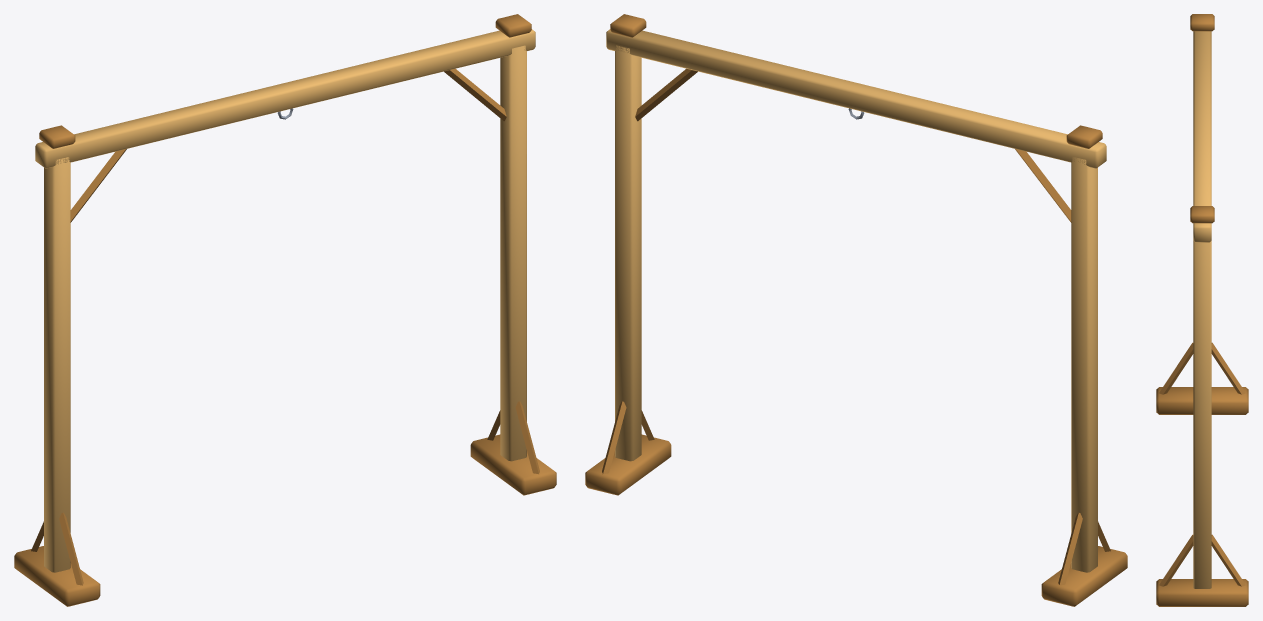
File: SwingFrame.fbx
3 views of the same model, side by side, from view 1: azimuth 30°, elevation 25°; view 2: azimuth 150°, elevation 25°; view 3: azimuth 270°, elevation 25° (orthographic). The views are drawn at different scales.
Visible parts, largest first — view 1: SwingFrame; view 2: SwingFrame; view 3: SwingFrame.
Part boxes in pixels (x1=…): SwingFrame: x1=14, y1=14, x2=556, y2=606; SwingFrame: x1=585, y1=14, x2=1127, y2=606; SwingFrame: x1=1156, y1=14, x2=1248, y2=606.
Size of the model in its own units: 6.9 by 6.07 by 1.3.
